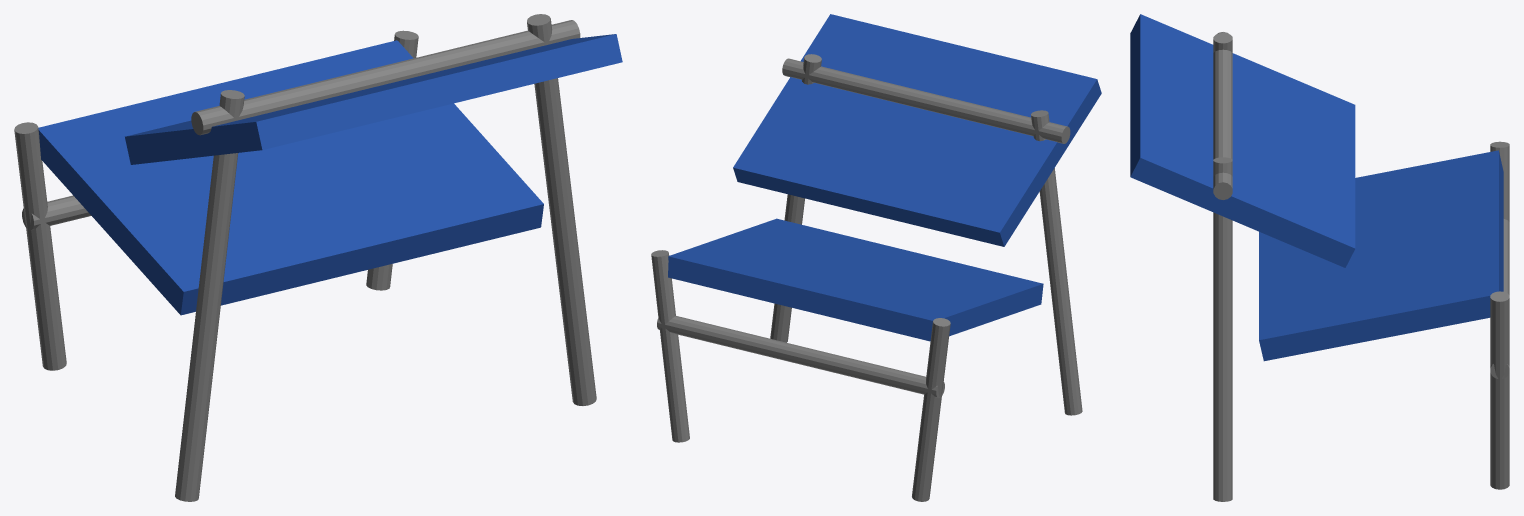
The model's file is camp_chair.obj.
3 renders of one model, left to right at view 1: azimuth 30°, elevation 25°; view 2: azimuth 150°, elevation 25°; view 3: azimuth 270°, elevation 25°, orthographic. The views are drawn at different scales.
Visible parts, largest first — view 1: curved_fabric_seat, fabric_back, back_leg_-0.42, back_leg_0.42, back_bar, front_leg_-0.42, front_bar, front_leg_0.42; view 2: fabric_back, curved_fabric_seat, front_bar, back_bar, back_leg_-0.42, front_leg_0.42, front_leg_-0.42, back_leg_0.42; view 3: fabric_back, curved_fabric_seat, back_leg_0.42, front_leg_0.42, back_bar, front_leg_-0.42, front_bar.
Boxes of the visible parts, x1,y1,x2,y2 form: curved_fabric_seat: (38, 40, 543, 315); fabric_back: (125, 34, 622, 164); back_leg_-0.42: (175, 90, 244, 501); back_leg_0.42: (527, 14, 596, 405); back_bar: (191, 20, 580, 135); front_leg_-0.42: (14, 122, 66, 370); front_bar: (22, 195, 91, 230); front_leg_0.42: (366, 30, 418, 290); fabric_back: (733, 14, 1101, 246); curved_fabric_seat: (668, 218, 1043, 341); front_bar: (657, 316, 944, 398); back_bar: (782, 58, 1070, 143); back_leg_-0.42: (1031, 110, 1082, 415); front_leg_0.42: (651, 250, 689, 442); front_leg_-0.42: (912, 318, 950, 501); back_leg_0.42: (770, 54, 821, 342); fabric_back: (1130, 14, 1355, 267); curved_fabric_seat: (1259, 150, 1503, 361); back_leg_0.42: (1213, 157, 1232, 501); front_leg_0.42: (1490, 291, 1509, 489); back_bar: (1213, 32, 1232, 199); front_leg_-0.42: (1490, 141, 1509, 221); front_bar: (1490, 219, 1509, 378).
Size of the model in its own units: 0.9993 by 0.9349 by 0.9589.
